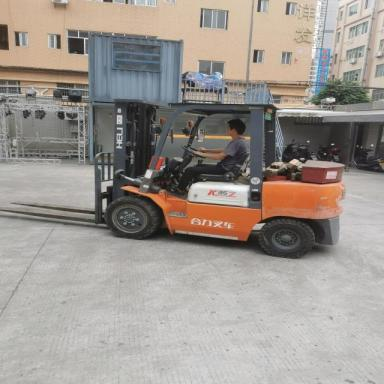forklift: (0, 91, 349, 260)
